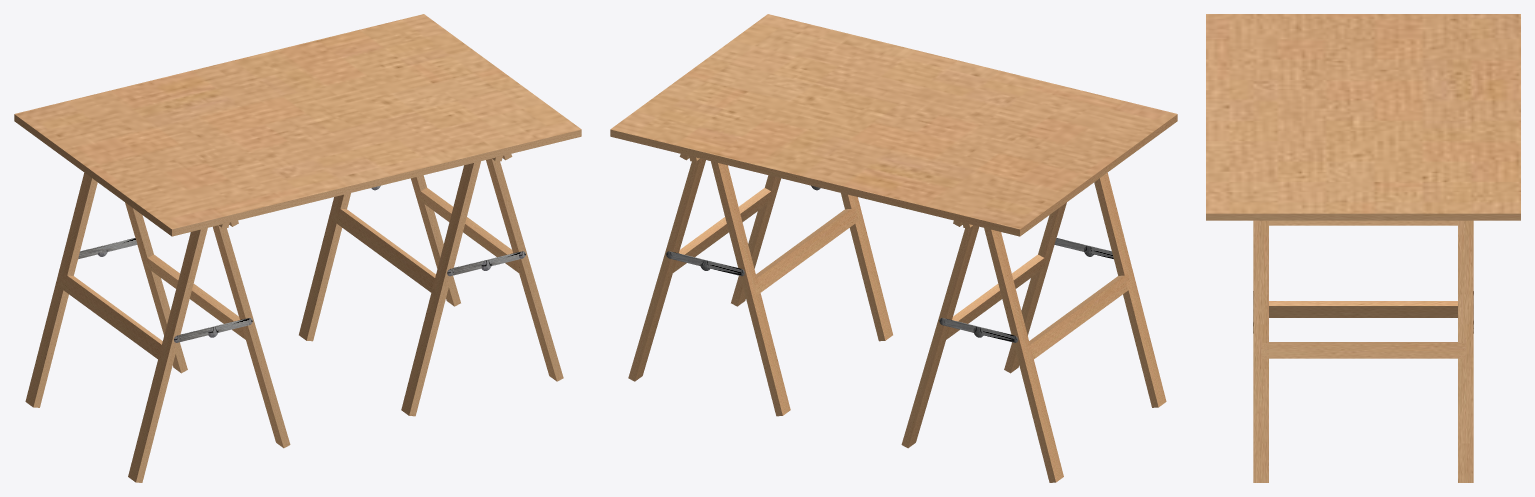
Rendered from table.fbx.
3 views of the same model, side by side, from view 1: azimuth 30°, elevation 25°; view 2: azimuth 150°, elevation 25°; view 3: azimuth 270°, elevation 25° (orthographic).
Parts seen in each view (by area): view 1: Cube.002; view 2: Cube.002; view 3: Cube.002.
Part boxes in pixels (bbox=[...]): Cube.002: bbox=[14, 14, 581, 482]; Cube.002: bbox=[610, 14, 1177, 482]; Cube.002: bbox=[1206, 14, 1520, 482].
Bounding box in the file's own units: 25054 × 15074 × 16000.
